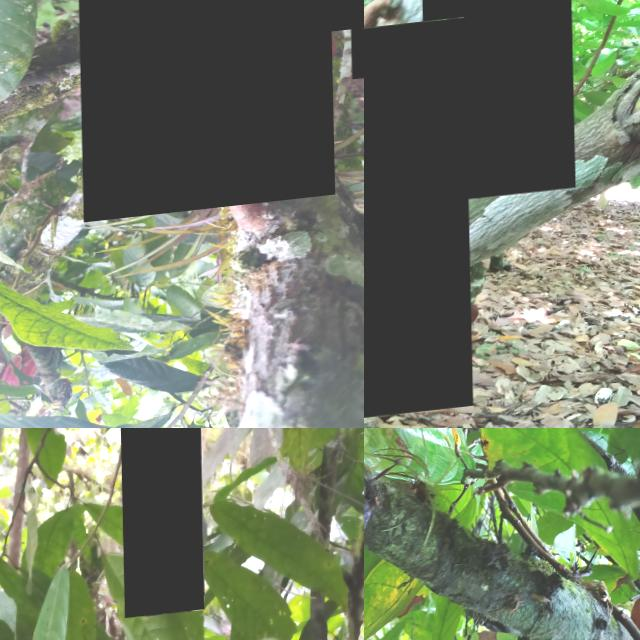Fitoftora: (364, 24, 470, 428), (118, 428, 202, 624)
Monilia: (75, 0, 333, 227)
Sana: (420, 0, 573, 210), (277, 0, 364, 46), (350, 6, 364, 90)
